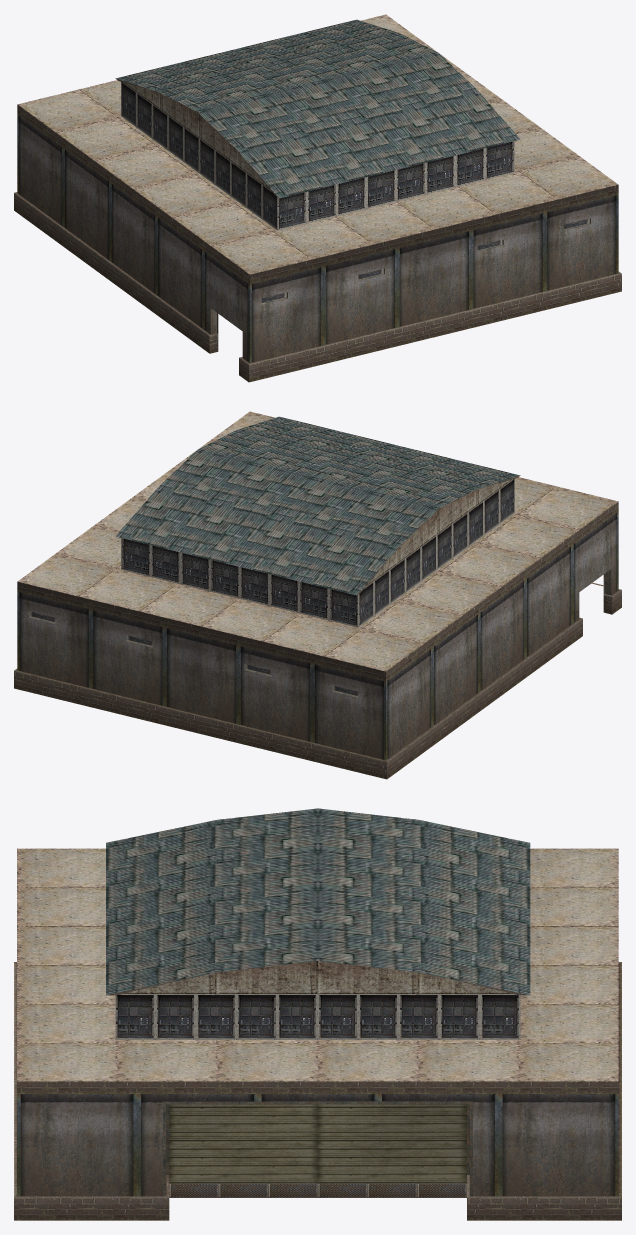
Rendered from M10_Z02Base_27_Garage1.glb.
The picture shows the model from 3 angles, top to bottom: view 1: azimuth 30°, elevation 25°; view 2: azimuth 150°, elevation 25°; view 3: azimuth 270°, elevation 25°; orthographic projection. The views are drawn at different scales.
Parts seen in each view (by area): view 1: M10_Z02BASE_27_GARAGE1; view 2: M10_Z02BASE_27_GARAGE1; view 3: M10_Z02BASE_27_GARAGE1.
Boxes of the visible parts, x1,y1,x2,y2 form: M10_Z02BASE_27_GARAGE1: (14, 14, 621, 382); M10_Z02BASE_27_GARAGE1: (14, 411, 621, 779); M10_Z02BASE_27_GARAGE1: (14, 808, 621, 1220).
Size of the model in its own units: 22 by 9.5 by 24.
Materials: 9 (9 with a texture image).
